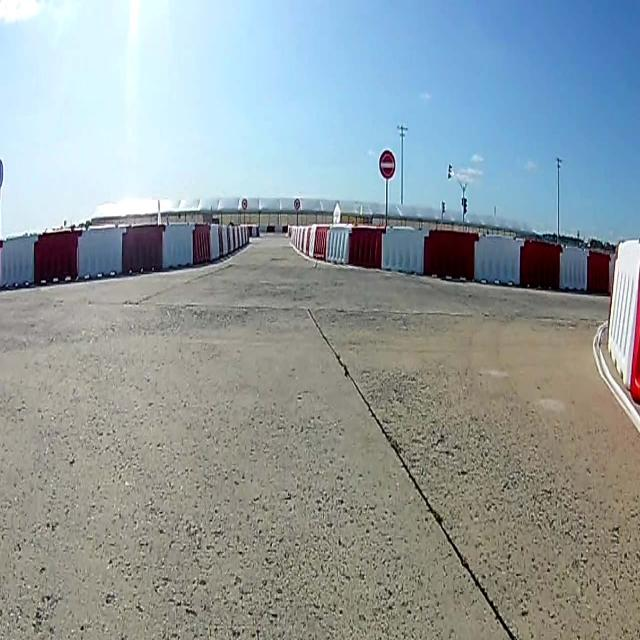girisyok: (379, 150, 395, 180)
